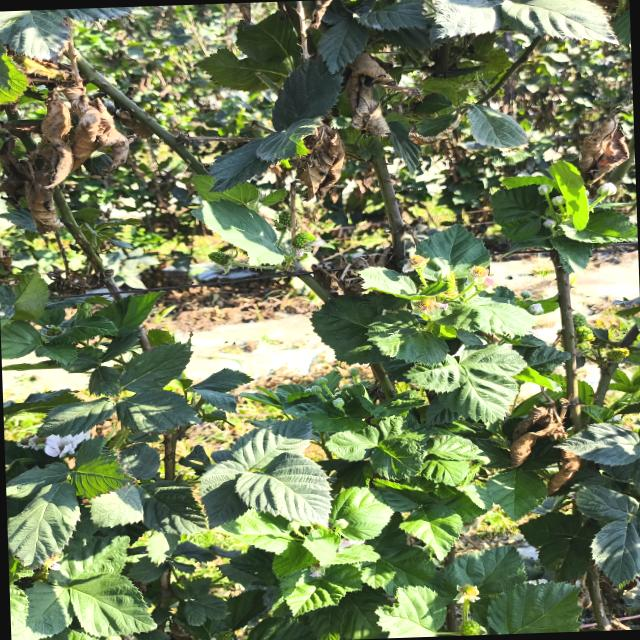boton: (349, 367, 360, 383), (528, 303, 544, 314), (332, 397, 344, 408), (314, 376, 327, 385), (310, 384, 321, 393), (521, 290, 531, 298)
